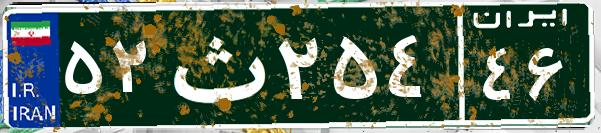2: (273, 28, 330, 110), (110, 28, 158, 105)
4: (385, 28, 445, 110), (475, 38, 525, 113)
5: (330, 28, 385, 110), (57, 26, 110, 107)
6: (525, 38, 570, 115)
ث: (158, 15, 273, 115)
